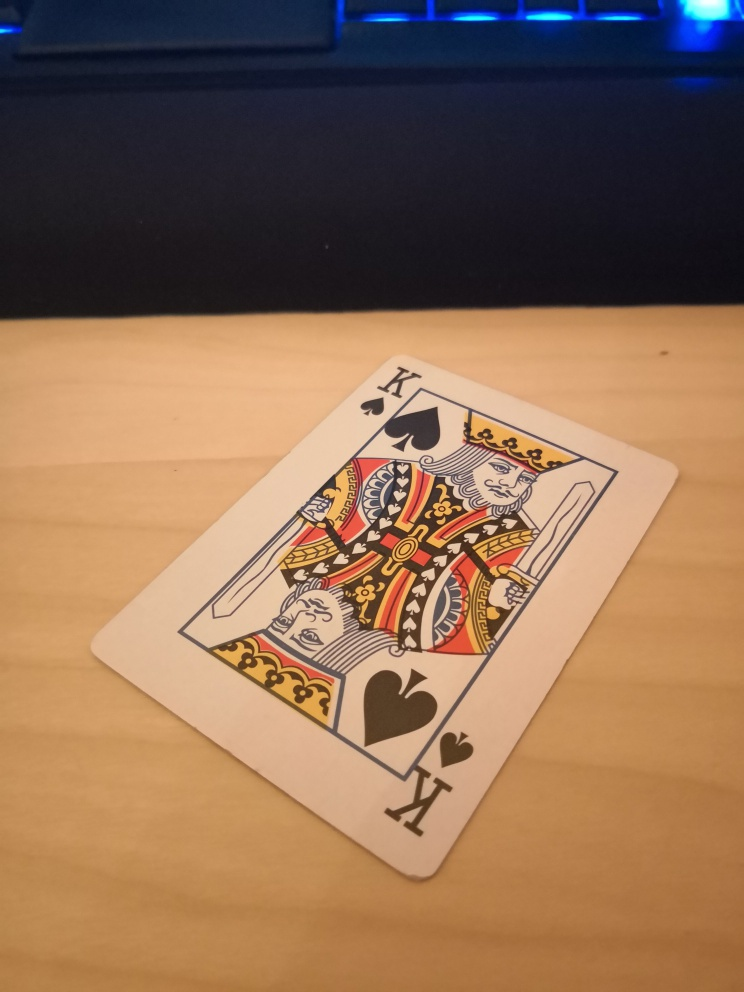king: (91, 353, 680, 882)
